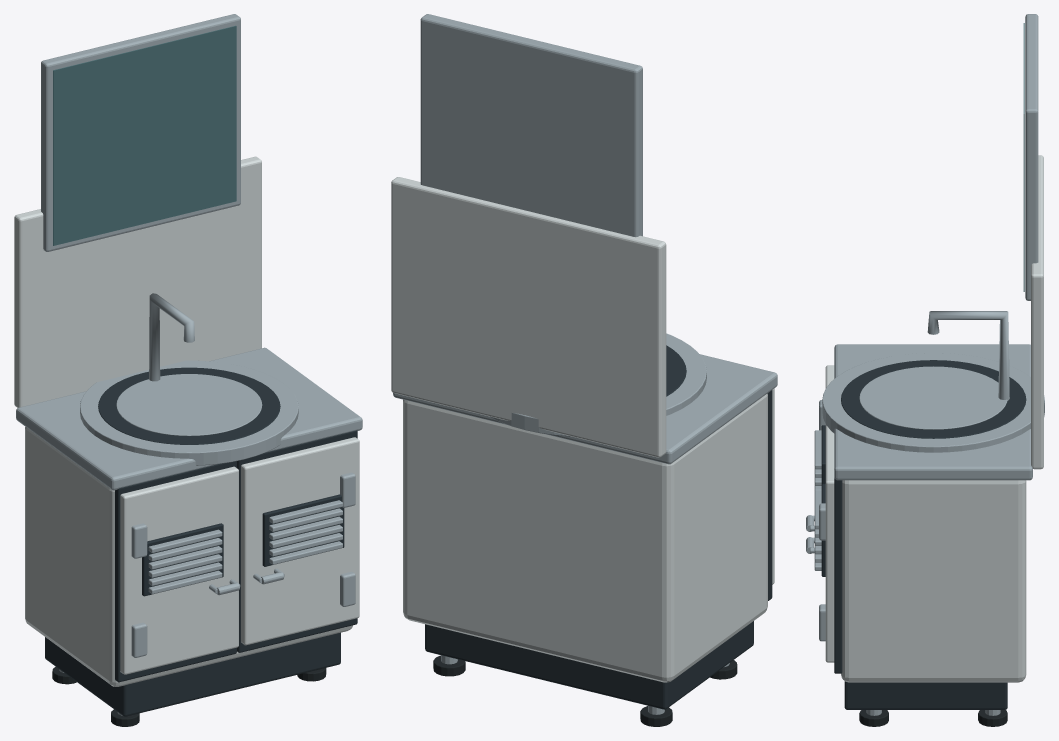
File: RD_SanitaryBasin.fbx
3 views of the same model, side by side, from view 1: azimuth 30°, elevation 25°; view 2: azimuth 150°, elevation 25°; view 3: azimuth 270°, elevation 25° (orthographic). The views are drawn at different scales.
Visible parts, largest first — view 1: RD_SanitaryBasin; view 2: RD_SanitaryBasin; view 3: RD_SanitaryBasin.
Part boxes in pixels (<box>): RD_SanitaryBasin: <box>14,14,362,726</box>; RD_SanitaryBasin: <box>391,14,777,726</box>; RD_SanitaryBasin: <box>806,14,1044,726</box>.
Bounding box in the file's own units: 79.5 × 182 × 64.37.
